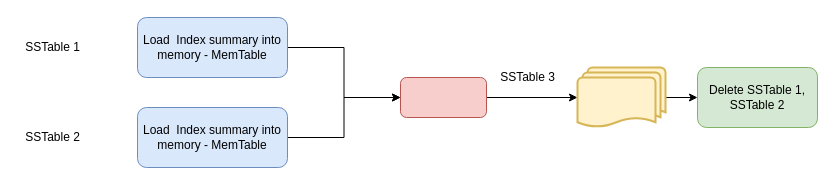
The diagram is 835 pixels wide and 185 high, and some of its shapes have lost their labels. The centre of each missing label's shape, as x and y in pixels:
"Disk" belongs at point 621,97.
"Merge Sort" belongs at point 443,97.
